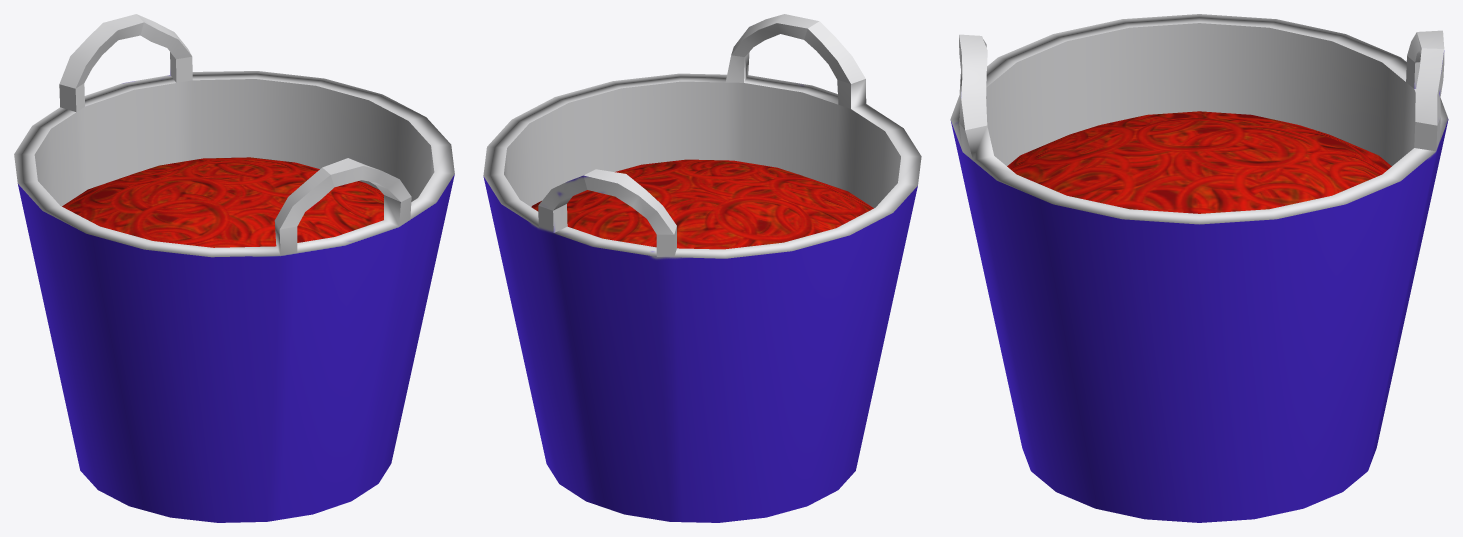
The model's file is Bucket.fbx.
The picture shows the model from 3 angles, left to right: view 1: azimuth 30°, elevation 25°; view 2: azimuth 150°, elevation 25°; view 3: azimuth 270°, elevation 25°; orthographic projection. The views are drawn at different scales.
Parts seen in each view (by area): view 1: polySurface1; view 2: polySurface1; view 3: polySurface1.
Part boxes in pixels (<box>): polySurface1: <box>14,14,454,522</box>; polySurface1: <box>483,14,921,522</box>; polySurface1: <box>950,14,1448,522</box>.
Size of the model in its own units: 1.19 by 1.07 by 1.19.
